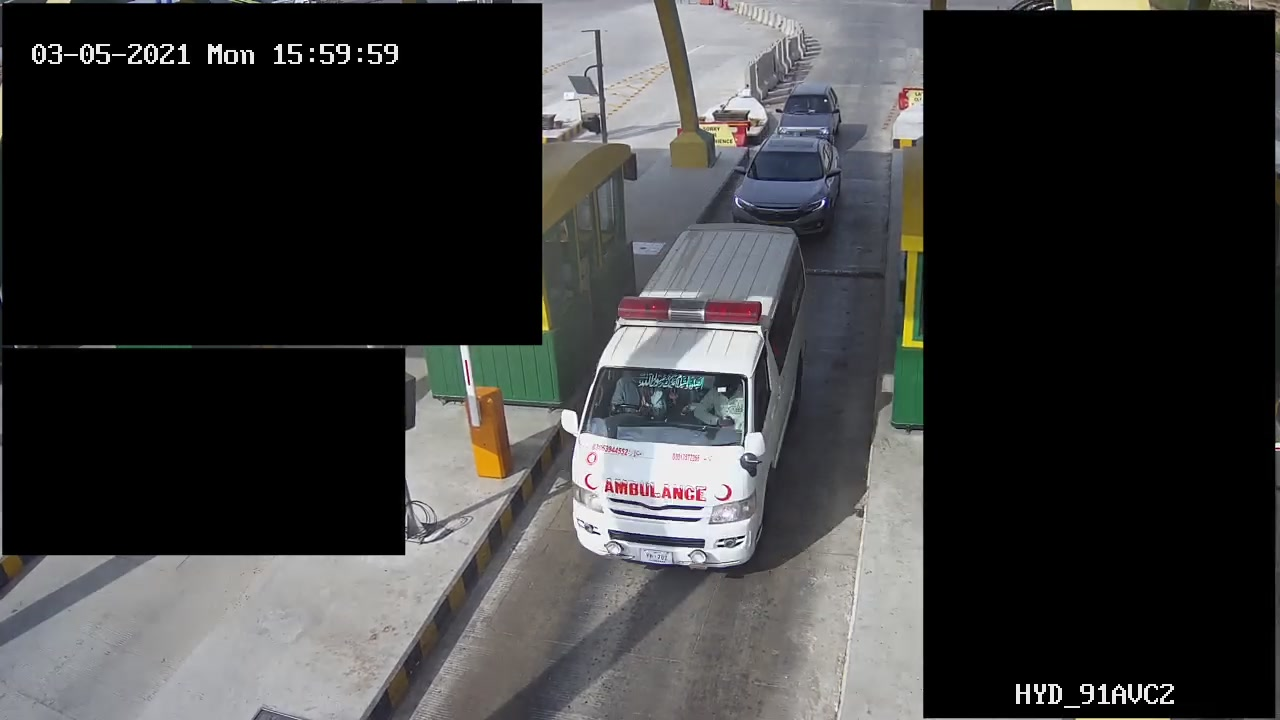F2: (562, 222, 858, 564)
